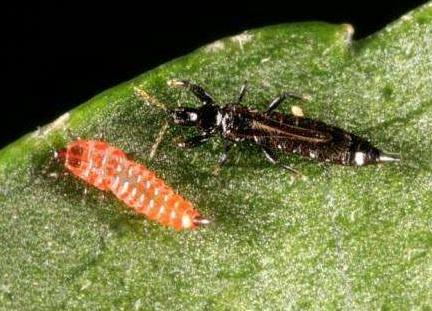Phlaeothripidae: (138, 80, 405, 174)
